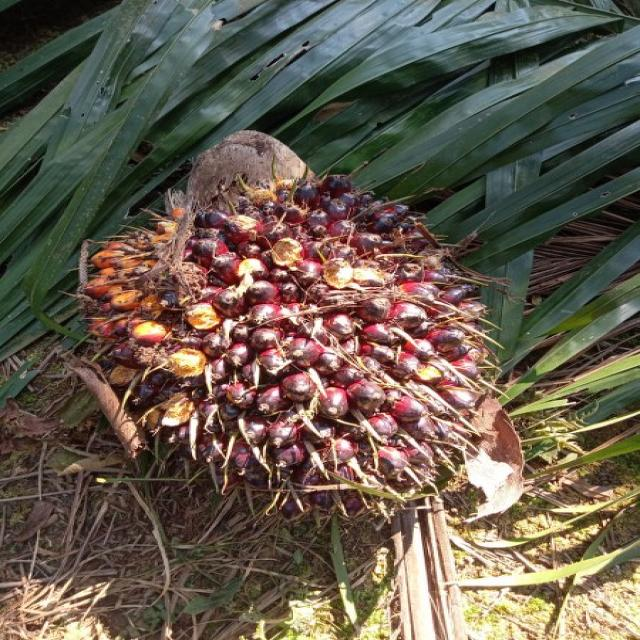fraksi 1: (49, 70, 565, 561)
